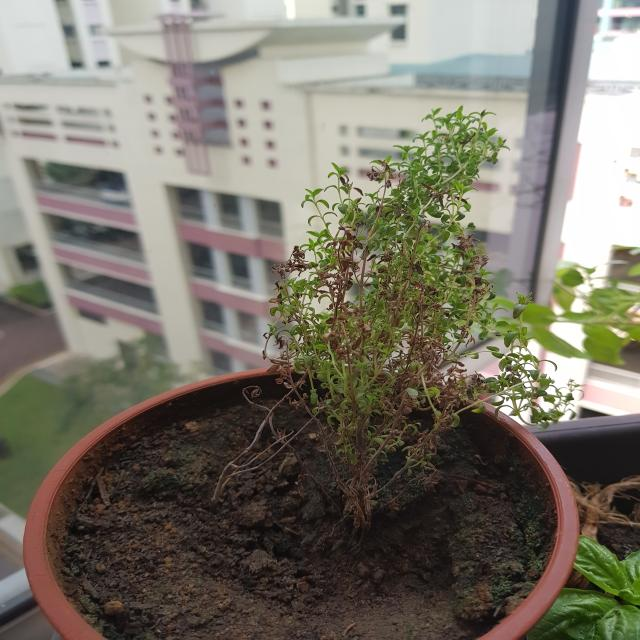Sweet Basil: (540, 544, 640, 640)
Thyme: (187, 80, 579, 529)
